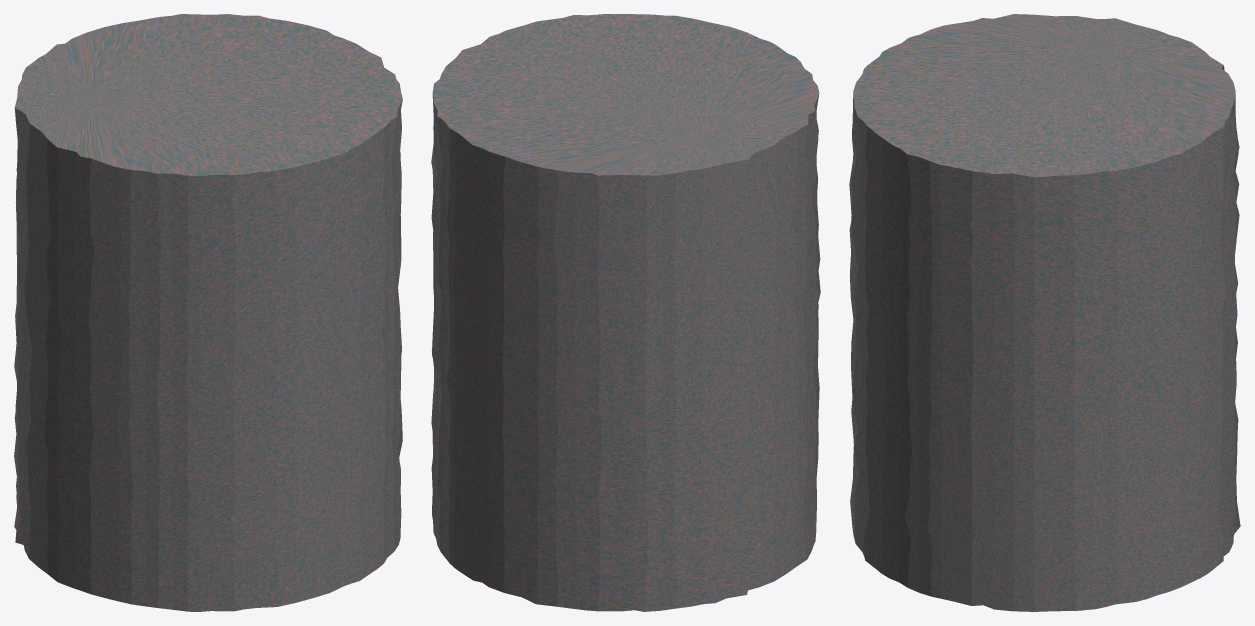
Rendered from barrel_34.dae.
3 views of the same model, side by side, from view 1: azimuth 30°, elevation 25°; view 2: azimuth 150°, elevation 25°; view 3: azimuth 270°, elevation 25° (orthographic).
Visible parts, largest first — view 1: Cylinder; view 2: Cylinder; view 3: Cylinder.
Part boxes in pixels (bbox=[...]): Cylinder: bbox=[14, 14, 402, 611]; Cylinder: bbox=[431, 14, 820, 611]; Cylinder: bbox=[849, 14, 1240, 611].
Size of the model in its own units: 0.8116 by 0.815 by 1.
1 material, 1 textured.
